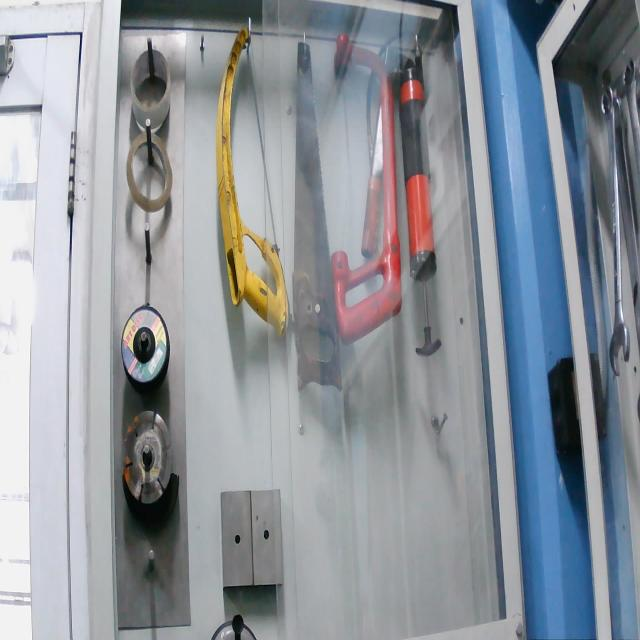gergaji_besi: (329, 30, 403, 347)
